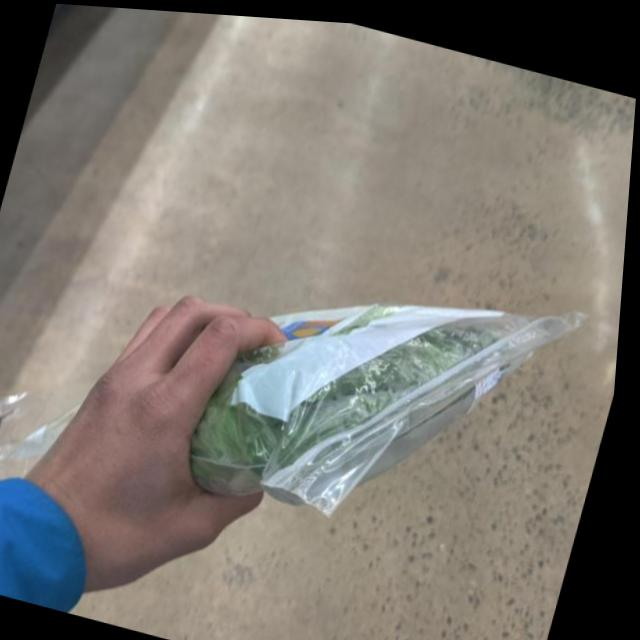Lettuce: (146, 226, 604, 585)
